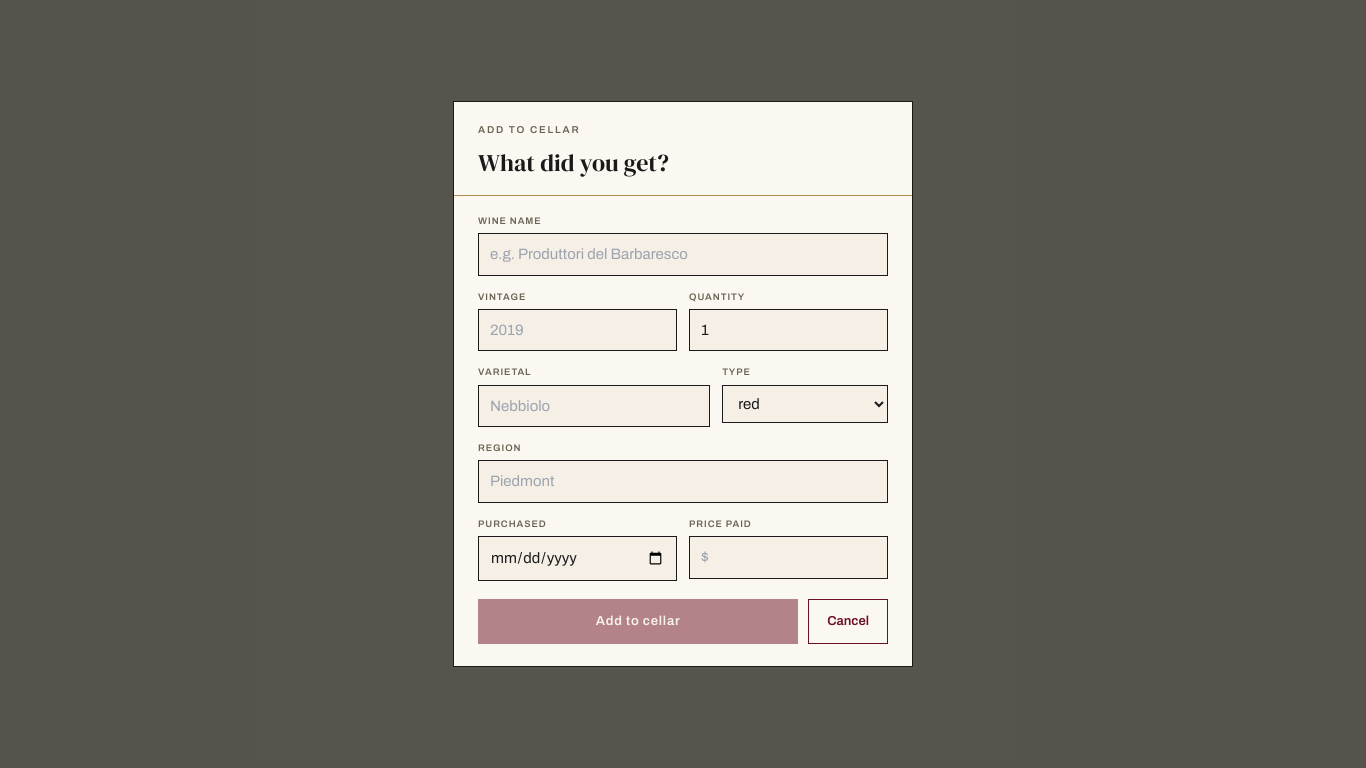
Test case: requires a name — submit disabled until entered
Expected: the button "Add to cellar" is disabled, x1=478 y1=599 x2=798 y2=644
Step 1. Type "Barolo Riserva" into the field labelled "Wine name" → (683, 254), box x1=478 y1=233 x2=888 y2=276
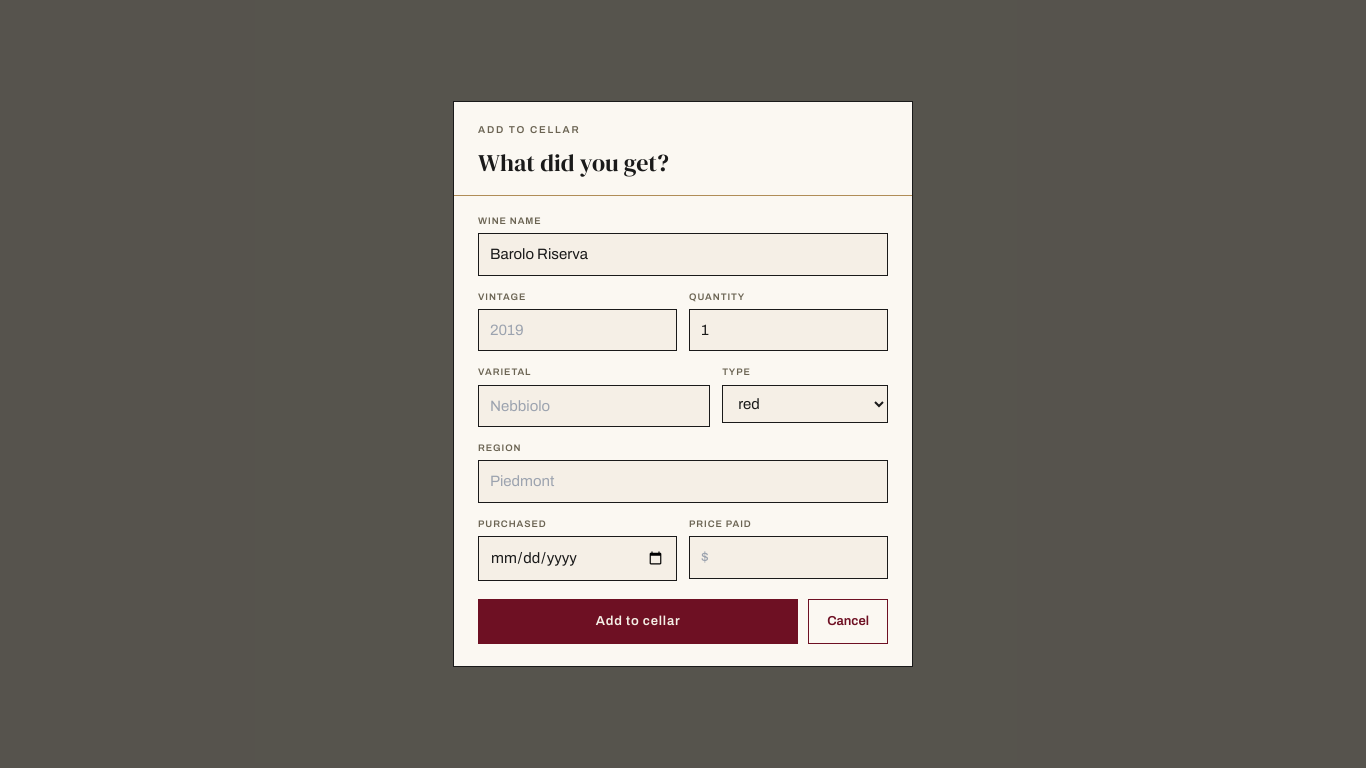
Now the button "Add to cellar" is enabled, box x1=478 y1=599 x2=798 y2=644
